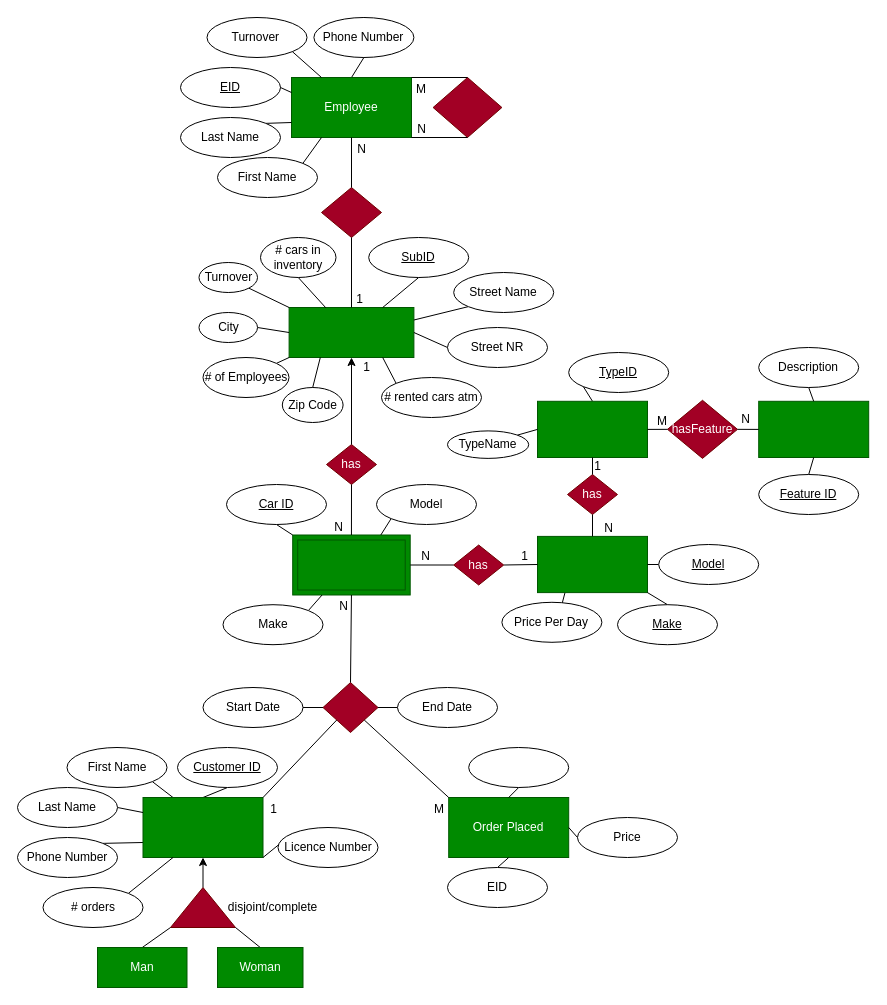
The diagram is 887 pixels wide and 1005 high, and some of its shapes have lost their labels. The centre of each missing label's shape, as x and y in pixels:
Car: (351,564)
Customer: (202,827)
employs: (351,212)
Feature: (813,429)
has Boss: (467,107)
is a: (203,907)
Make/Model: (592,564)
Order ID: (518,767)
rents: (350,707)
Subsidiary: (351,332)
Type: (592,429)
